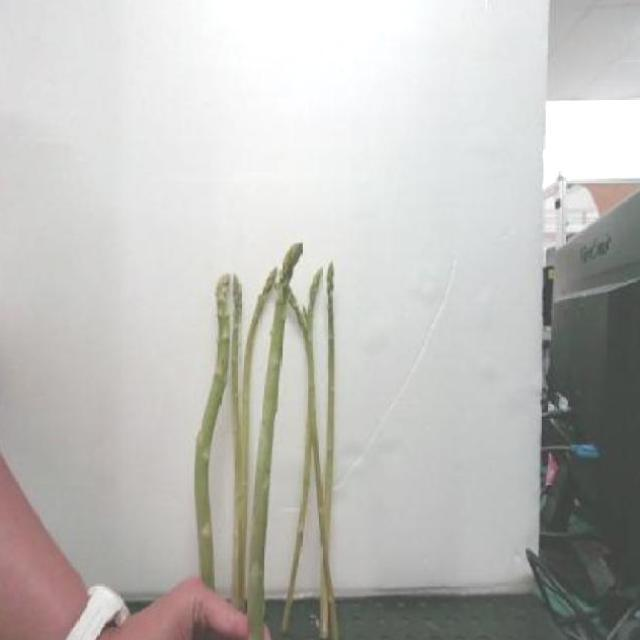aspargus: (248, 242, 306, 640), (192, 269, 231, 586), (319, 264, 338, 640)
